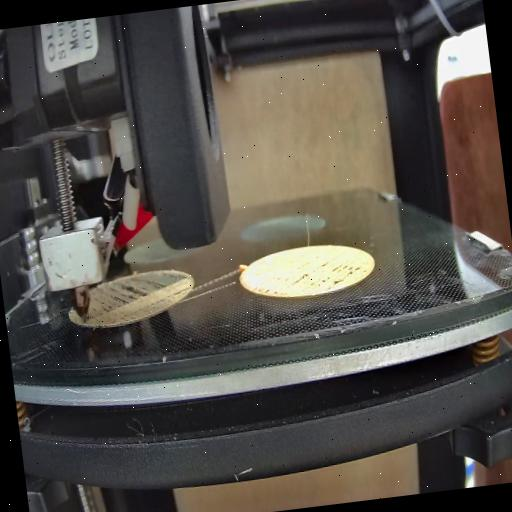under_extrusion: (248, 262, 376, 302), (89, 268, 171, 310)
